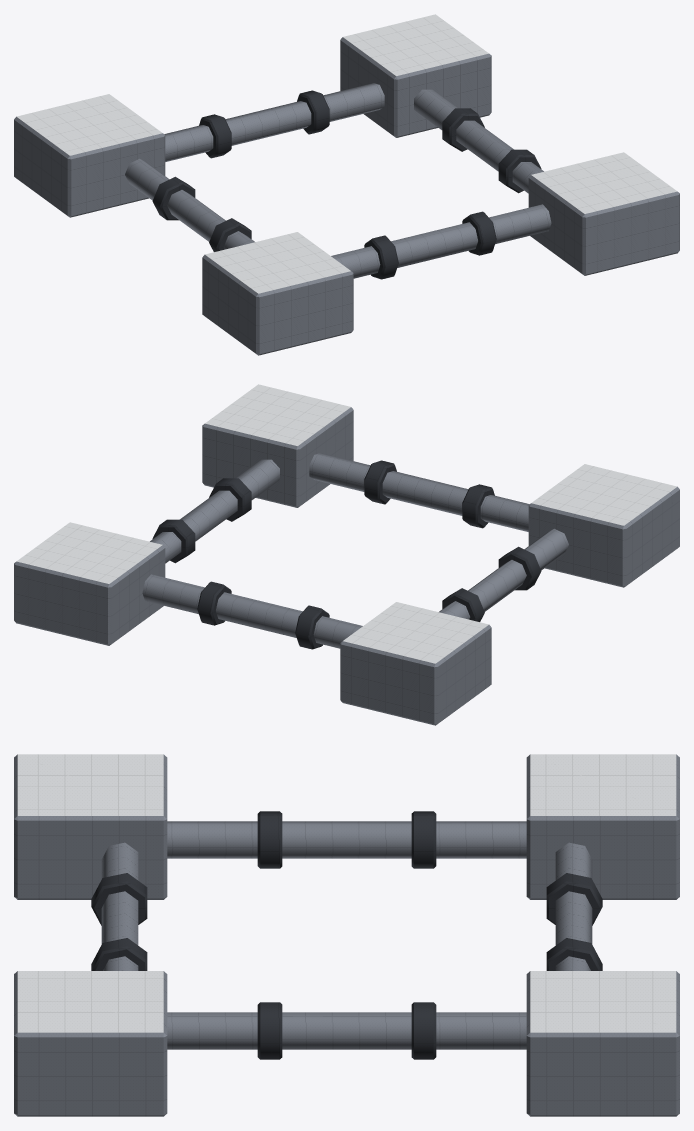
Rendered from R4C_ROD_FRAME_LOD1.glb.
3 views of the same model, one above another, from view 1: azimuth 30°, elevation 25°; view 2: azimuth 150°, elevation 25°; view 3: azimuth 270°, elevation 25° (orthographic). The views are drawn at different scales.
Visible parts, largest first — view 1: R4C_ROD_FRAME_LOD1; view 2: R4C_ROD_FRAME_LOD1; view 3: R4C_ROD_FRAME_LOD1.
Boxes of the visible parts, box(x1,y1,x2,y2) form: R4C_ROD_FRAME_LOD1: box(14, 14, 679, 355); R4C_ROD_FRAME_LOD1: box(14, 384, 679, 725); R4C_ROD_FRAME_LOD1: box(14, 754, 679, 1116).
Bounding box in the file's own units: 1.62 × 0.226 × 1.62.
Materials: 3 (3 with a texture image).
